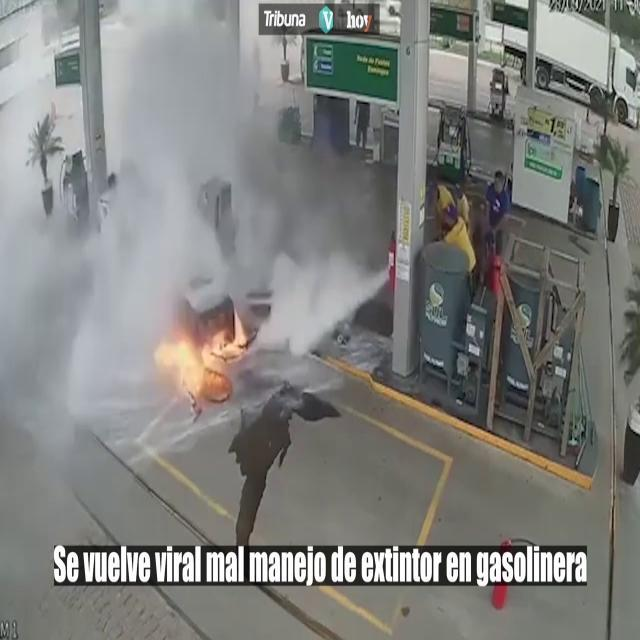Fire: (154, 304, 252, 408)
Smoke: (90, 4, 372, 342)
